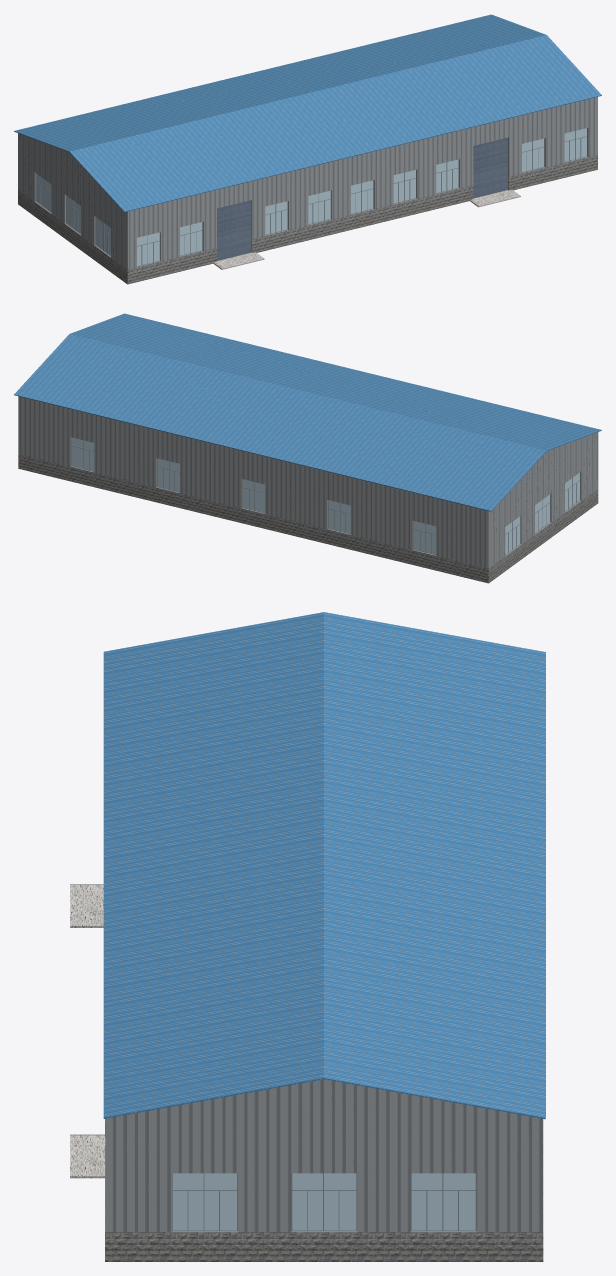
3 views of the same model, one above another, from view 1: azimuth 30°, elevation 25°; view 2: azimuth 150°, elevation 25°; view 3: azimuth 270°, elevation 25° (orthographic). The views are drawn at different scales.
Visible parts, largest first — view 1: 厂房28; view 2: 厂房28; view 3: 厂房28.
Boxes of the visible parts, <box> form: 厂房28: <box>14,14,601,284</box>; 厂房28: <box>14,313,601,583</box>; 厂房28: <box>70,612,545,1261</box>.
Size of the model in its own units: 50.36 by 9.45 by 21.73.
Materials: 8 (6 with a texture image).
